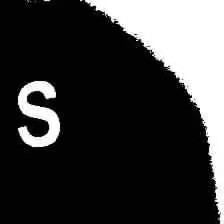LTR_S: (9, 73, 65, 151)
